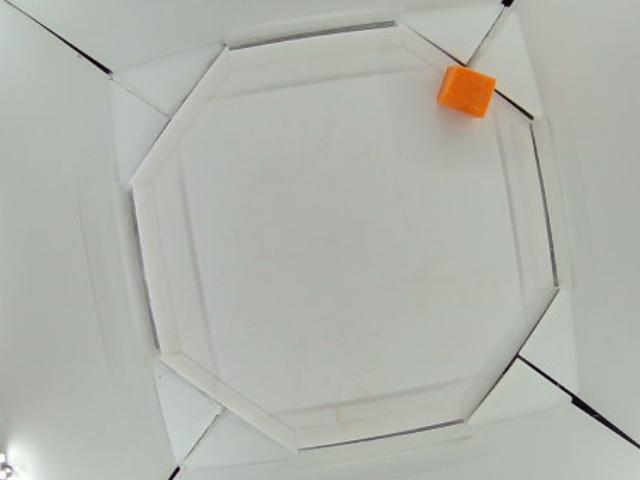Carrot: (439, 65, 497, 119)
